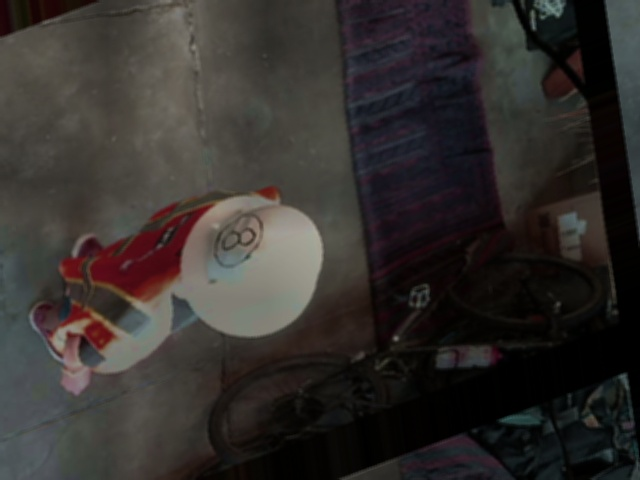eight: (209, 207, 264, 272)
